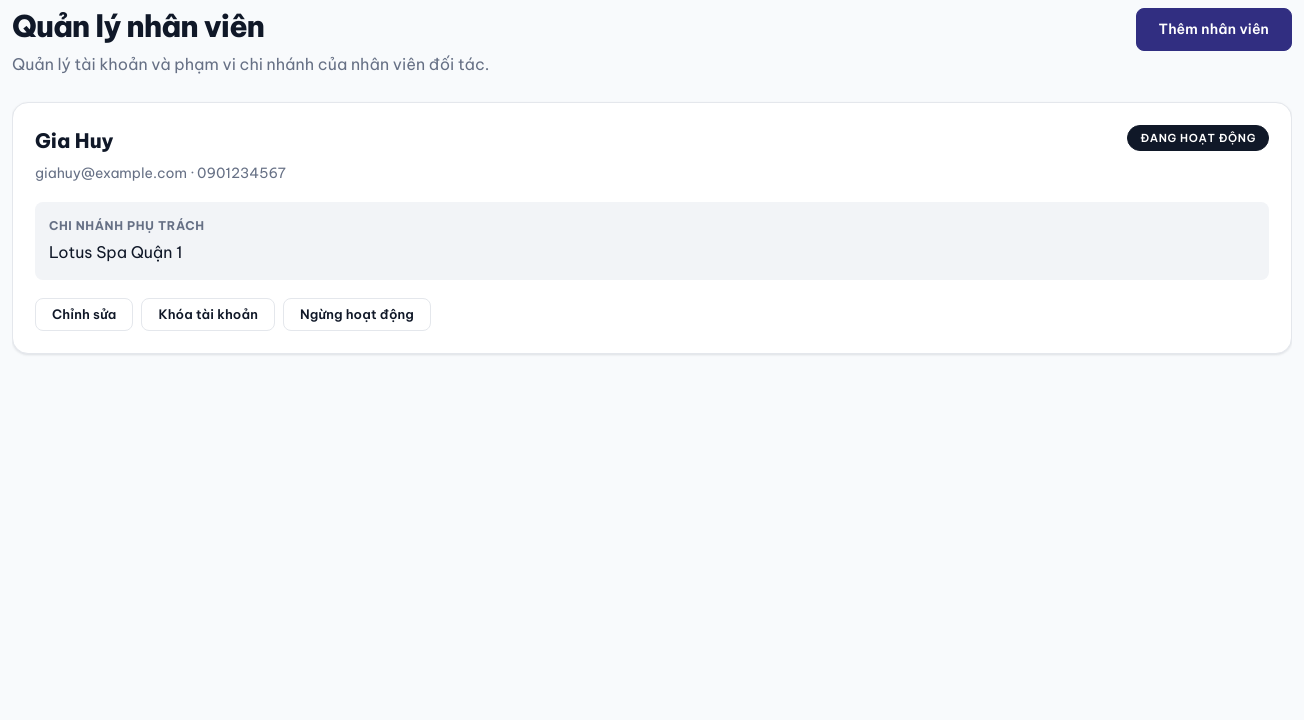
Test case: StaffPage › keeps the editor open when updating a staff account fails
Check: the heading "Gia Huy" is shown, box [35, 128, 114, 153]
Click the button "Chỉnh sửa" at (84, 315), box [35, 298, 134, 331]
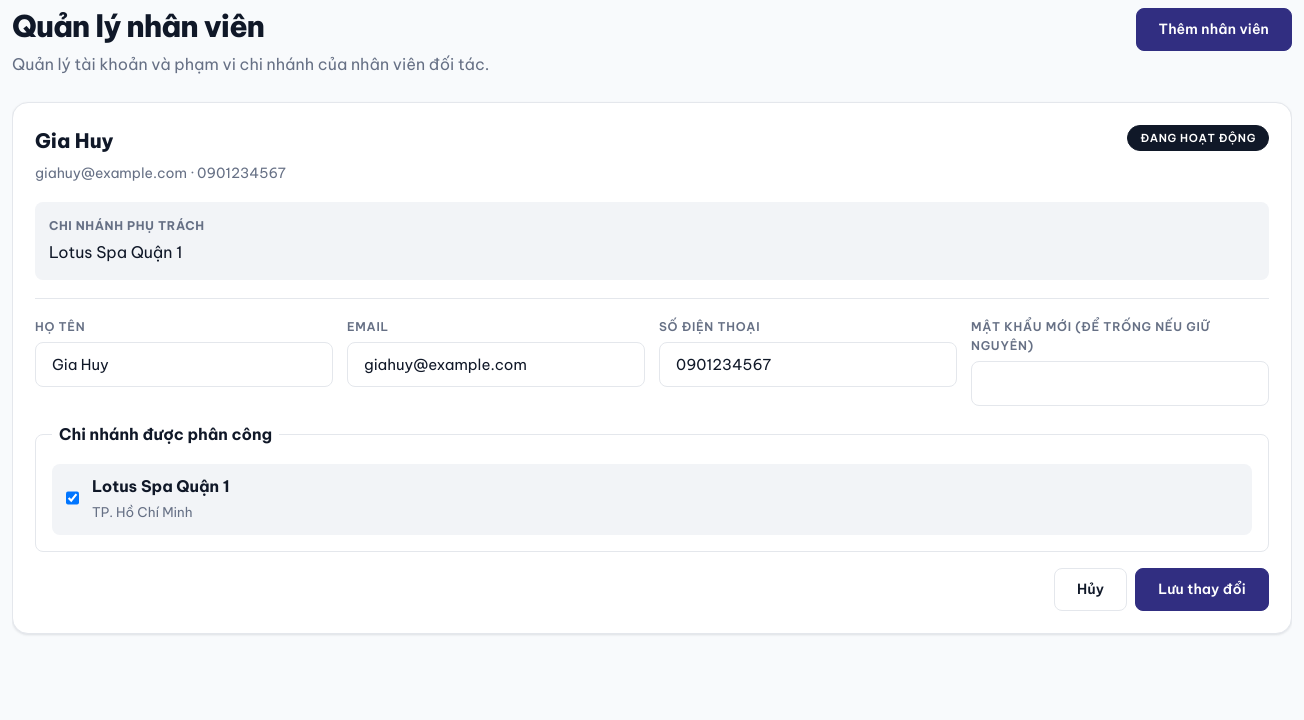
Replace the text in the field labelled "Họ tên" with "Tên đang sửa" at (184, 364), box [35, 342, 333, 387]
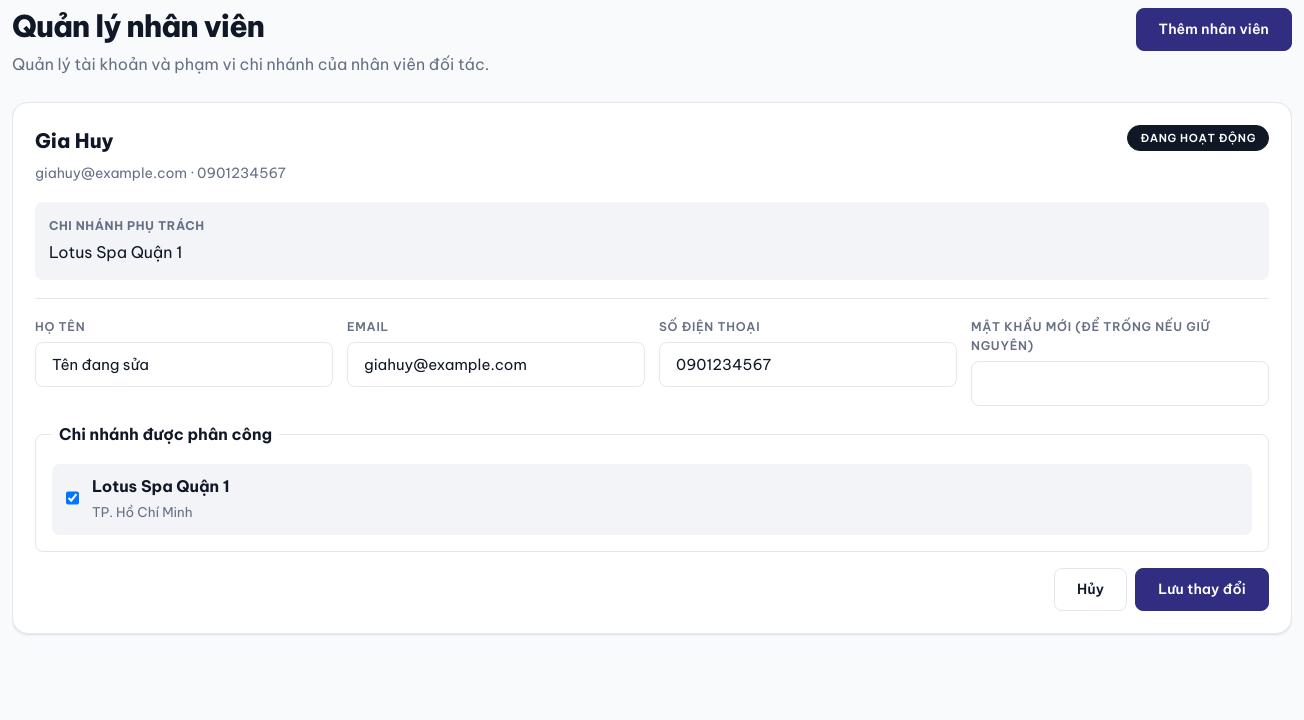
Click the button "Lưu thay đổi" at (1202, 589), box [1135, 568, 1269, 611]
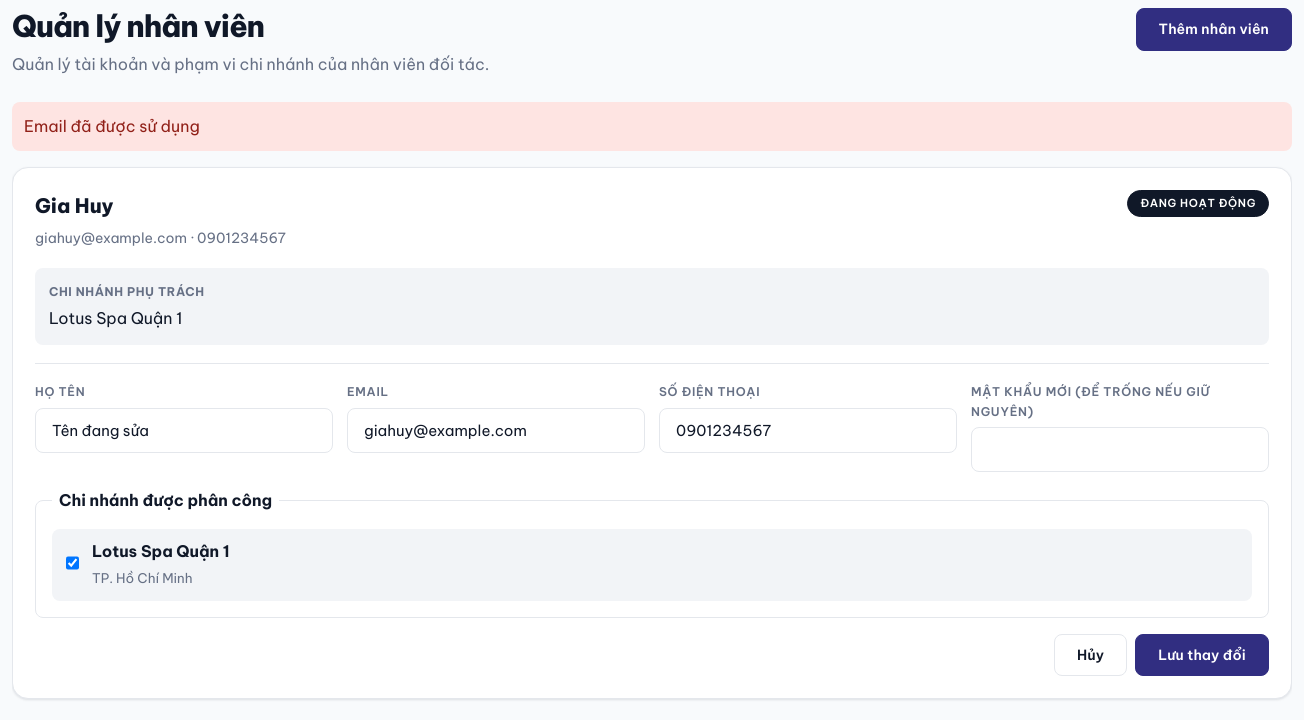
Check: the text "Email đã được sử dụng" is shown, box [12, 102, 1292, 151]
